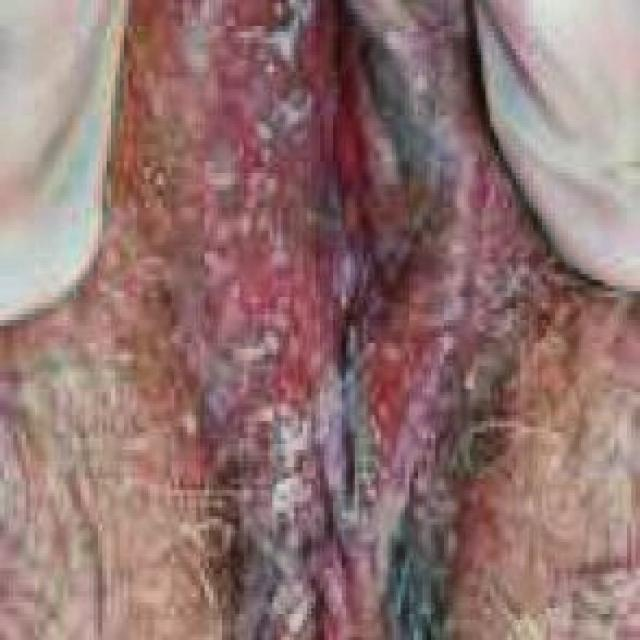Tinea Ringworm Candidiasis and other Fungal Infections: (188, 0, 503, 519)
